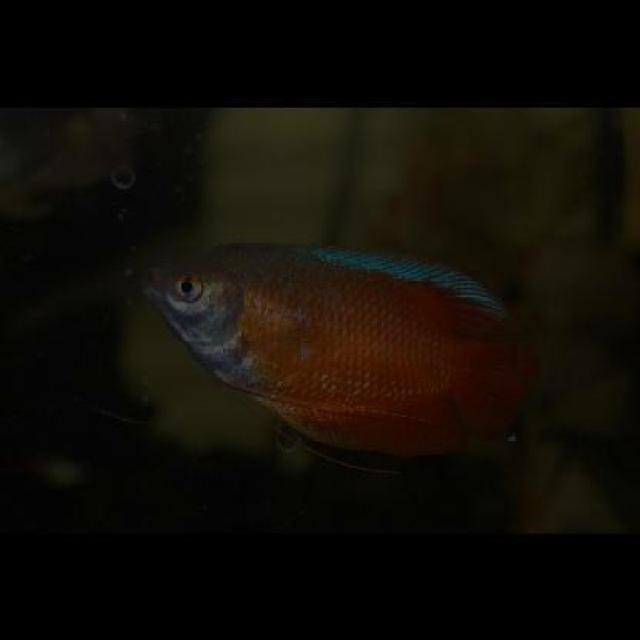Gourami: (142, 238, 538, 458)
